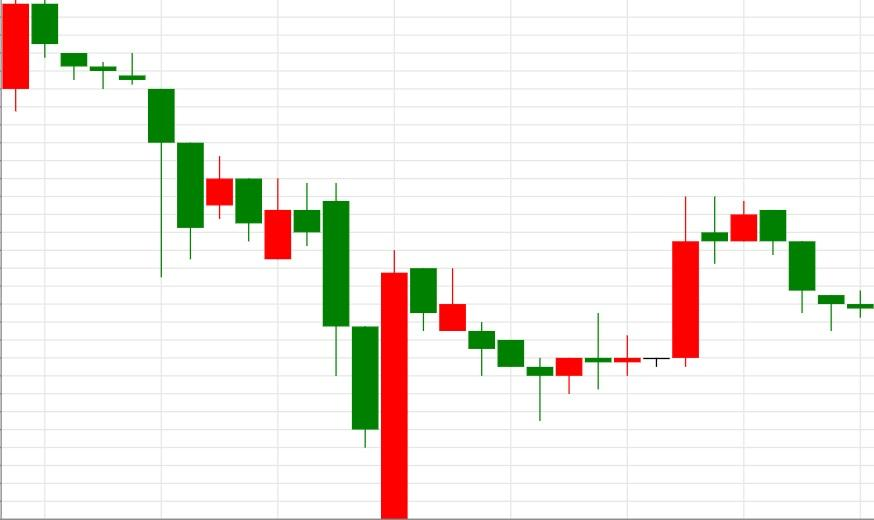bullish_engulfing_rise: (2, 0, 409, 519)
three_black_crows_fall: (526, 196, 845, 422)
